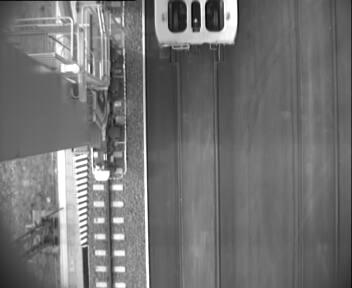twist_lock_2: (163, 1, 228, 37)
